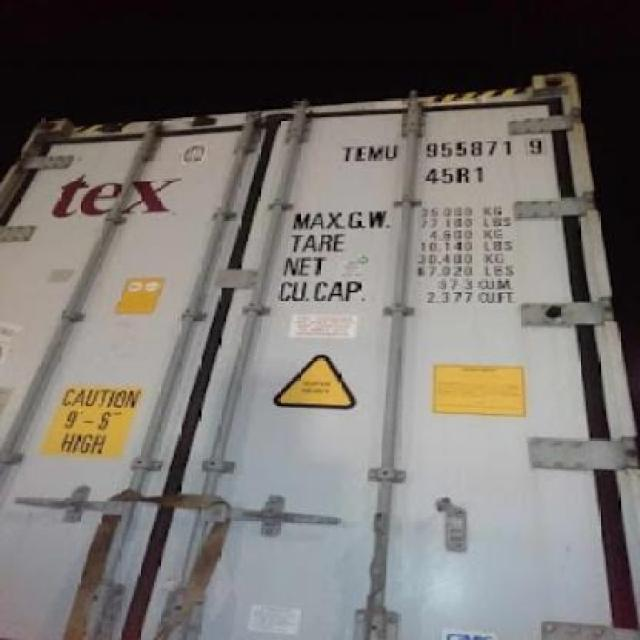ISO: (424, 163, 484, 186)
container_number: (350, 134, 546, 162)
